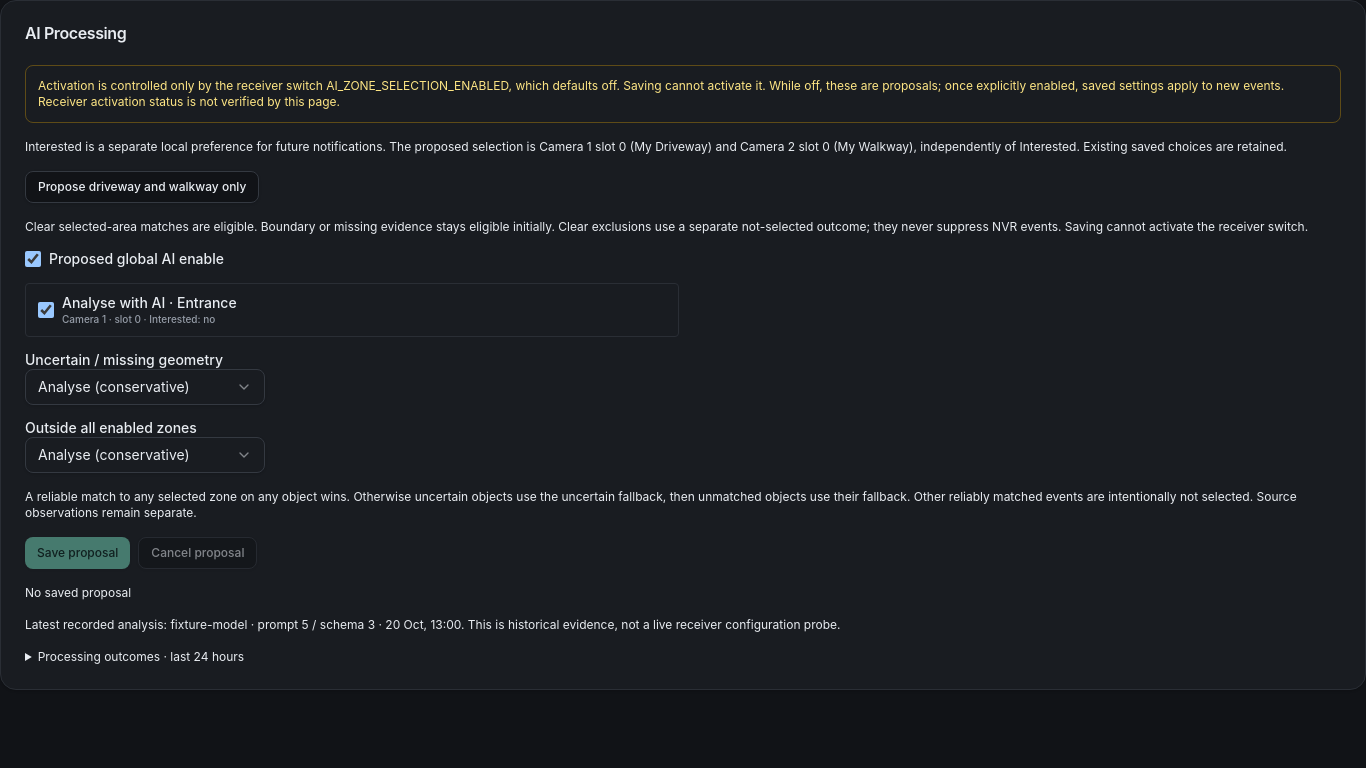
saves independent proposals, supports cancel and keeps enforcement visibly held back
Check: the text "Camera 1 · slot 0 · Interested: no" is shown, box [62, 314, 237, 324]
Click the checkbox labelled "Analyse with AI" at (46, 310), box [38, 302, 54, 318]
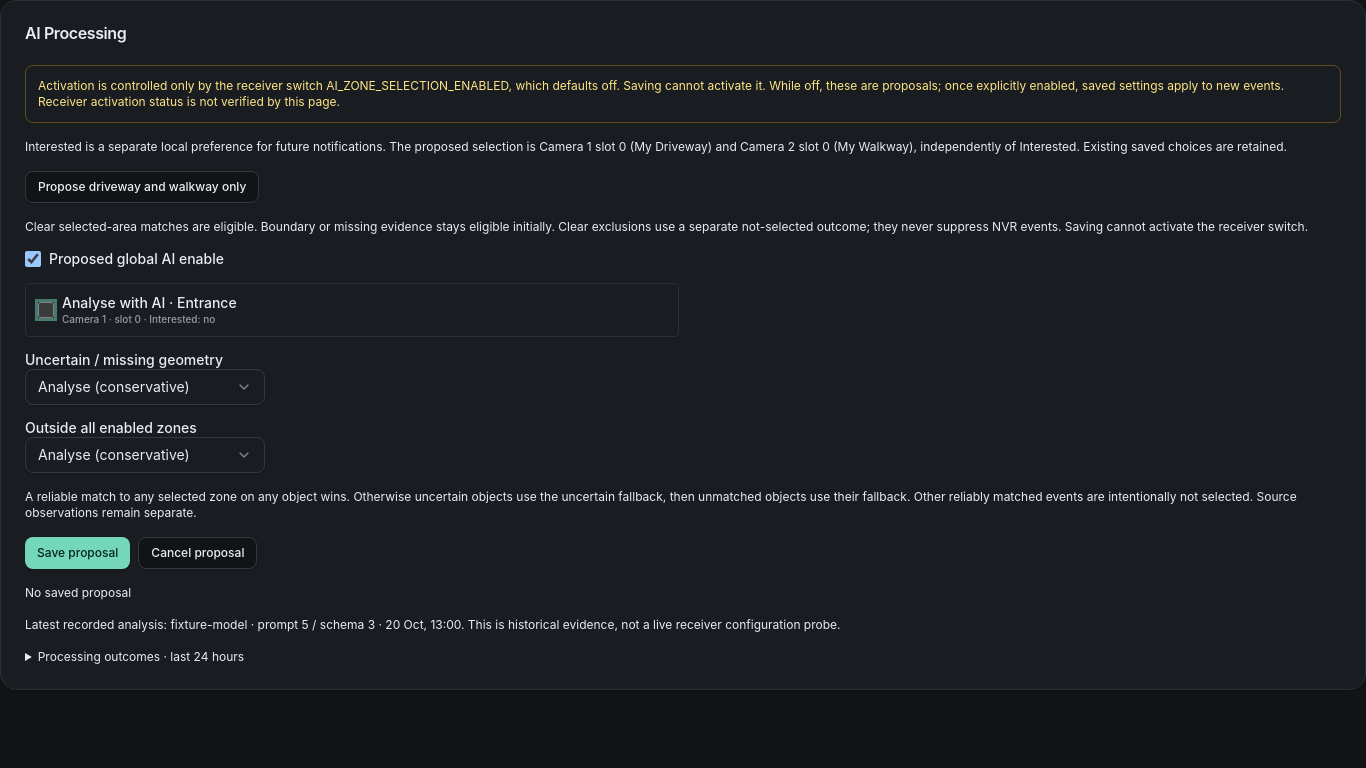
Click the button "Cancel proposal" at (198, 553), box [138, 537, 257, 569]
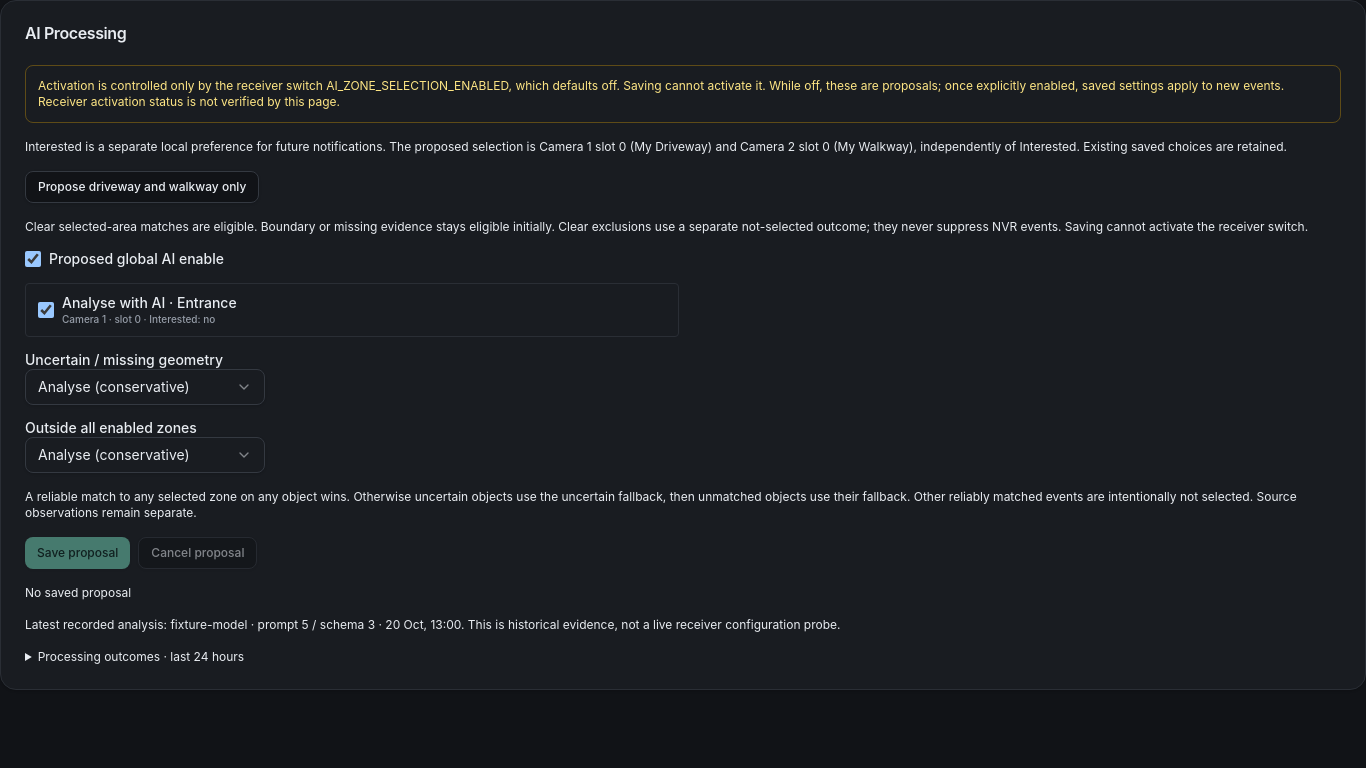
Check: the checkbox labelled "Analyse with AI" is checked
Click the checkbox labelled "Analyse with AI" at (46, 310), box [38, 302, 54, 318]
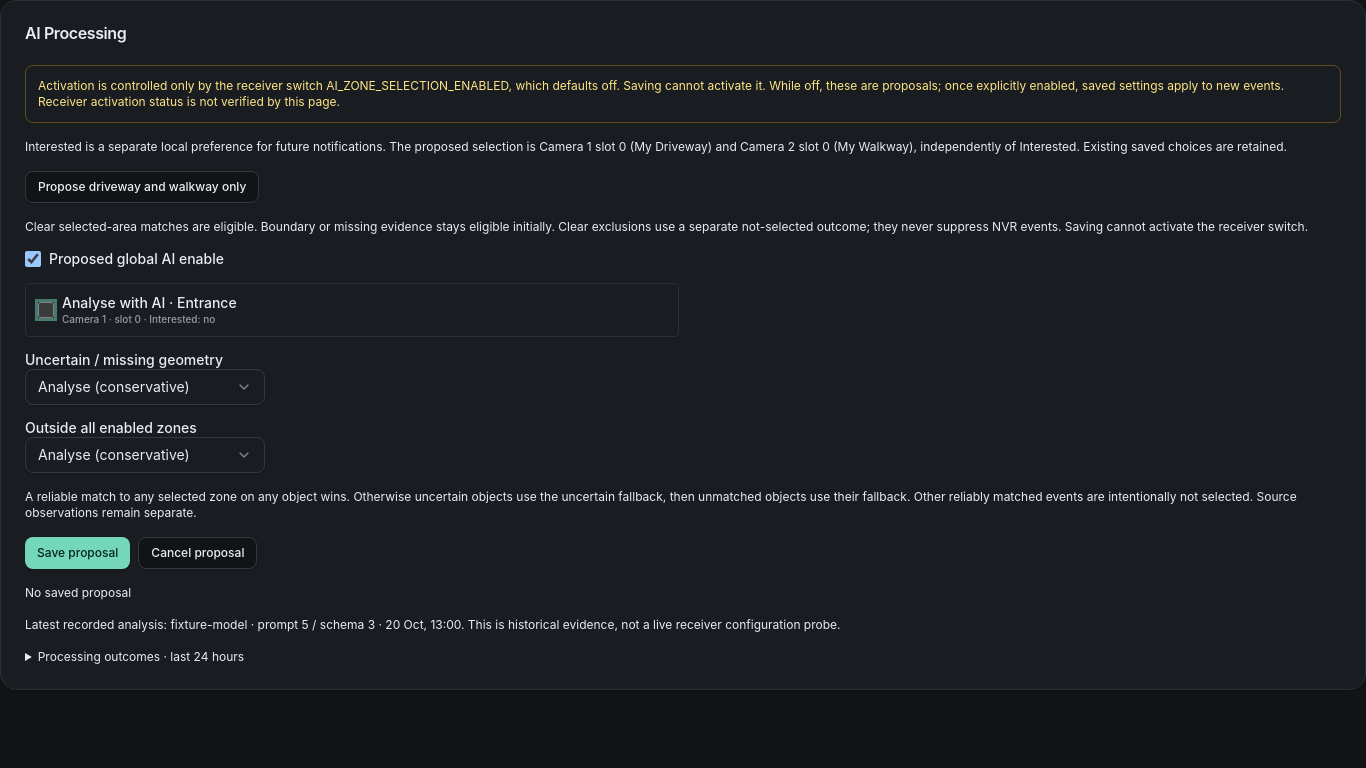
Click the button "Save proposal" at (78, 553), box [25, 537, 130, 569]
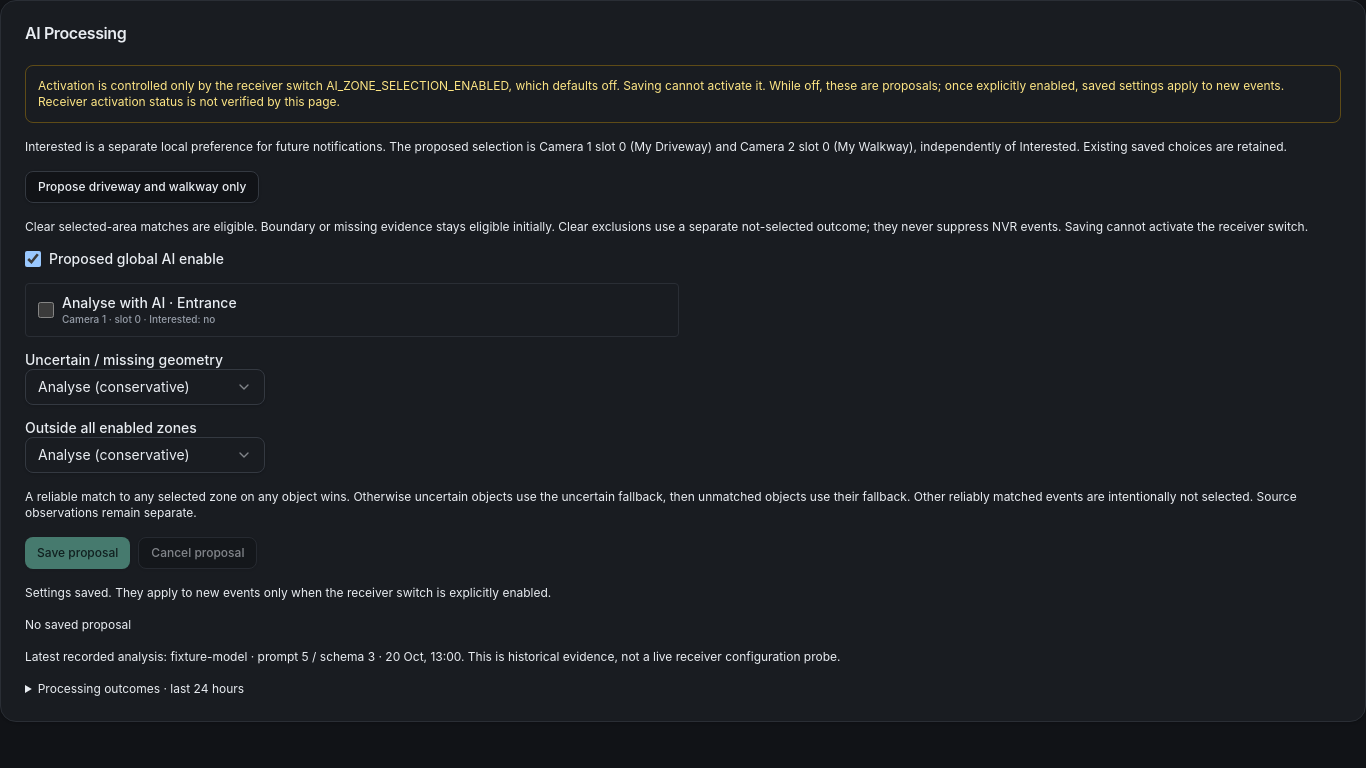
Check: the text "Activation is controlled only by the receiver" is shown, box [38, 78, 1284, 109]
Check: the text "Settings saved. They apply to new events only when the receiver switch is explicitly enabled." is shown, box [25, 585, 551, 600]
